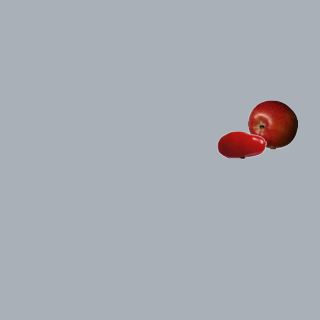Apple Braeburn: (247, 99, 297, 149)
Tomato 2: (216, 119, 266, 169)
